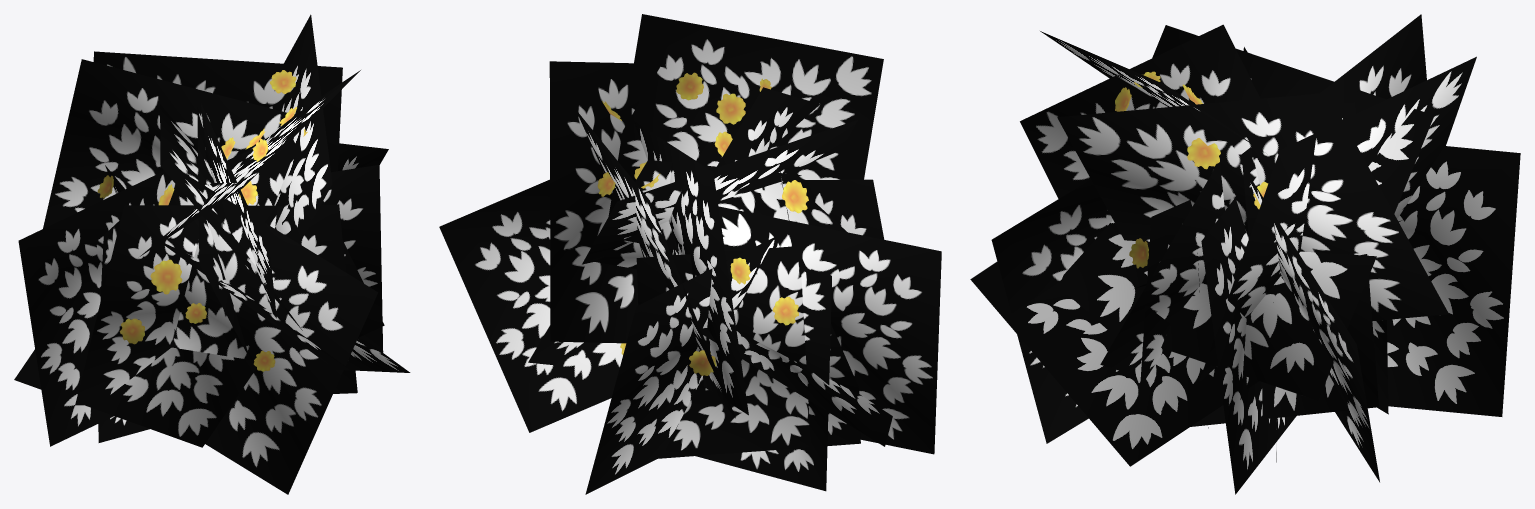
Rendered from P_FlowerBush01.obj.
3 views of the same model, side by side, from view 1: azimuth 30°, elevation 25°; view 2: azimuth 150°, elevation 25°; view 3: azimuth 270°, elevation 25° (orthographic). The views are drawn at different scales.
Size of the model in its own units: 2.86 by 2.36 by 2.72.
